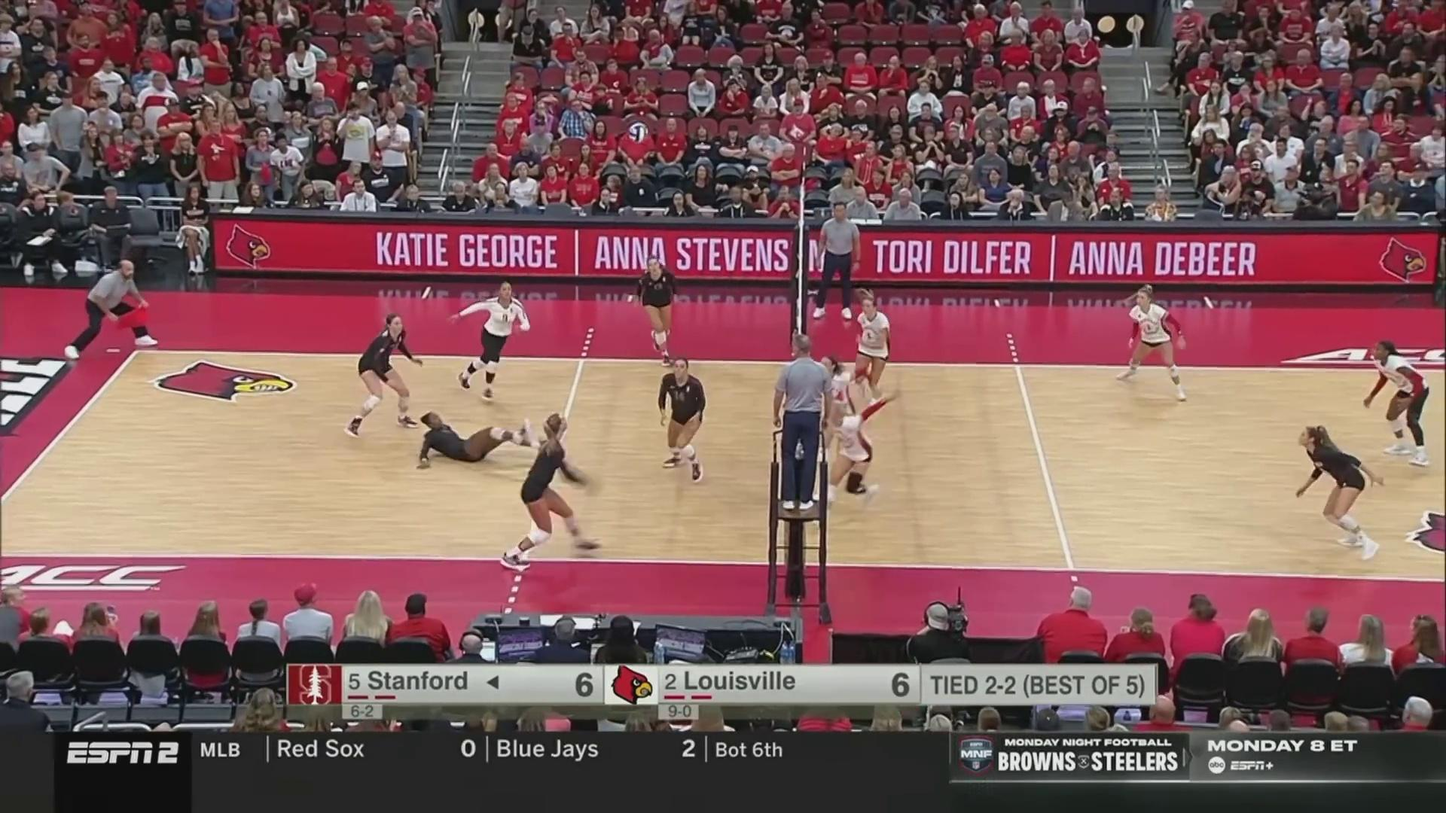player: (495, 417, 602, 568), (1293, 425, 1383, 560), (822, 391, 902, 513), (347, 316, 422, 439), (1367, 344, 1444, 463), (454, 285, 529, 400), (1117, 288, 1191, 400), (410, 414, 542, 463), (658, 356, 709, 481), (815, 351, 862, 483), (631, 253, 679, 364), (854, 298, 892, 405)
refree: (773, 343, 829, 516), (64, 260, 155, 359), (815, 201, 859, 319)
